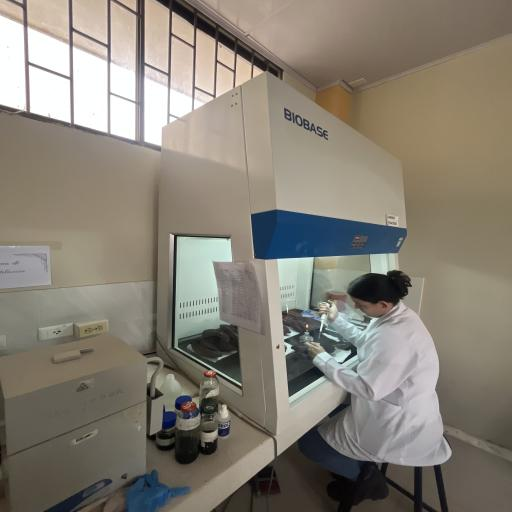Camara_Extractora_Biobase: (152, 66, 419, 444)
